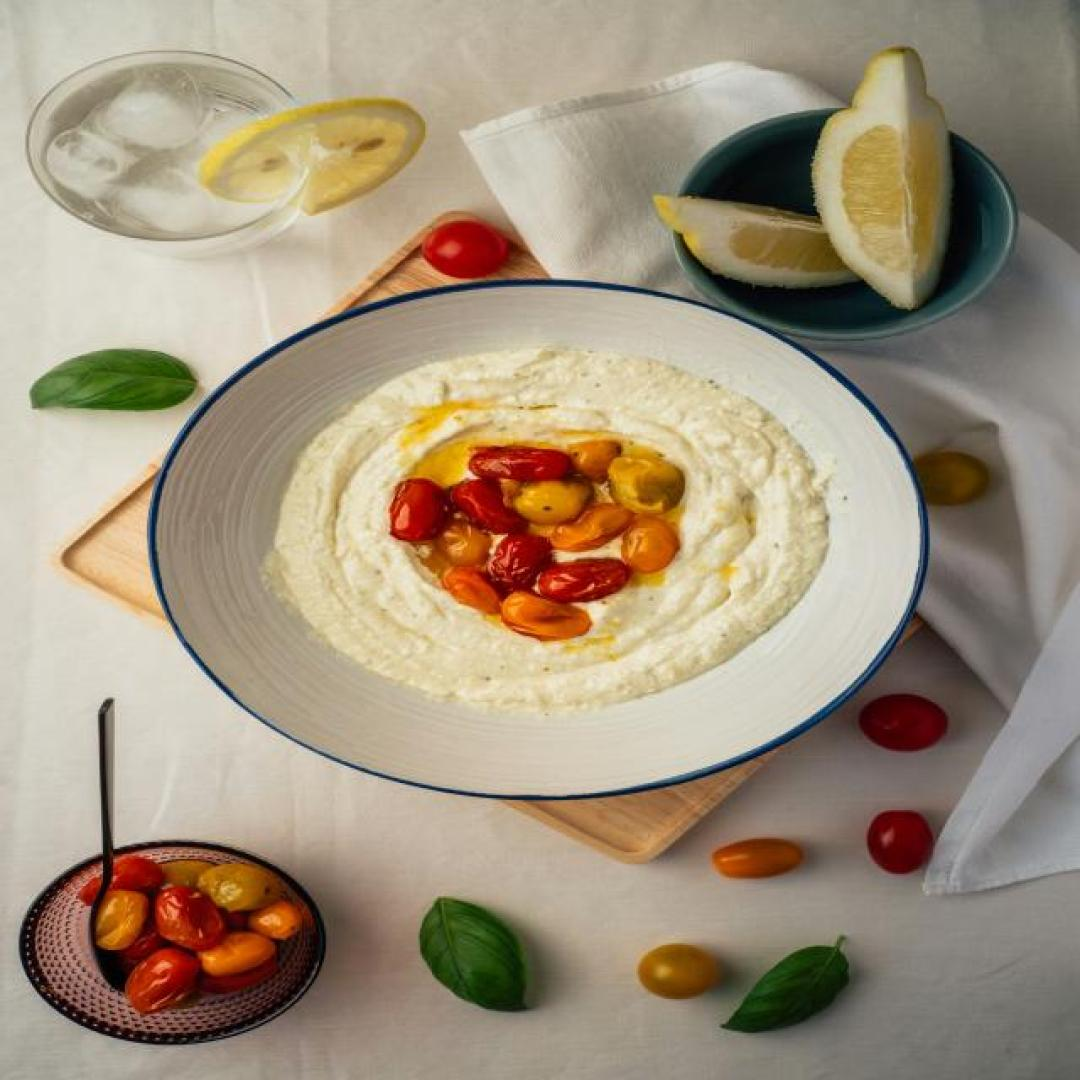matang: (859, 694, 950, 752), (424, 221, 512, 279), (867, 810, 935, 876)
setengah_matang: (636, 943, 721, 999), (712, 839, 803, 879)
